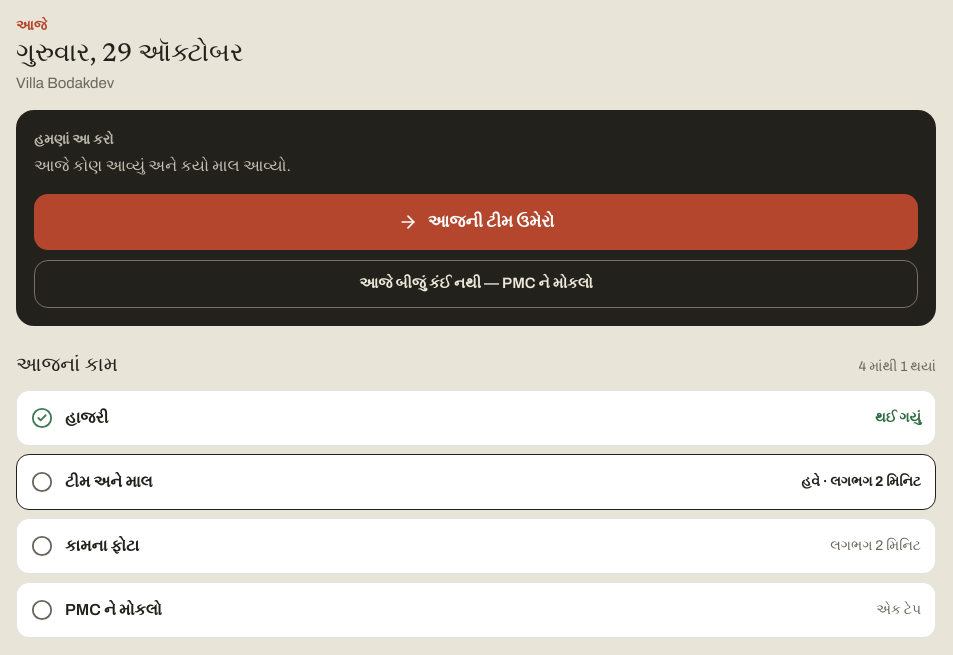
U1b — "Same as yesterday (N)": the last log's count for this trade › speaks the engineer's language
Click the button with test id "today-action" at (476,222), box left=34, top=194, right=918, bottom=250
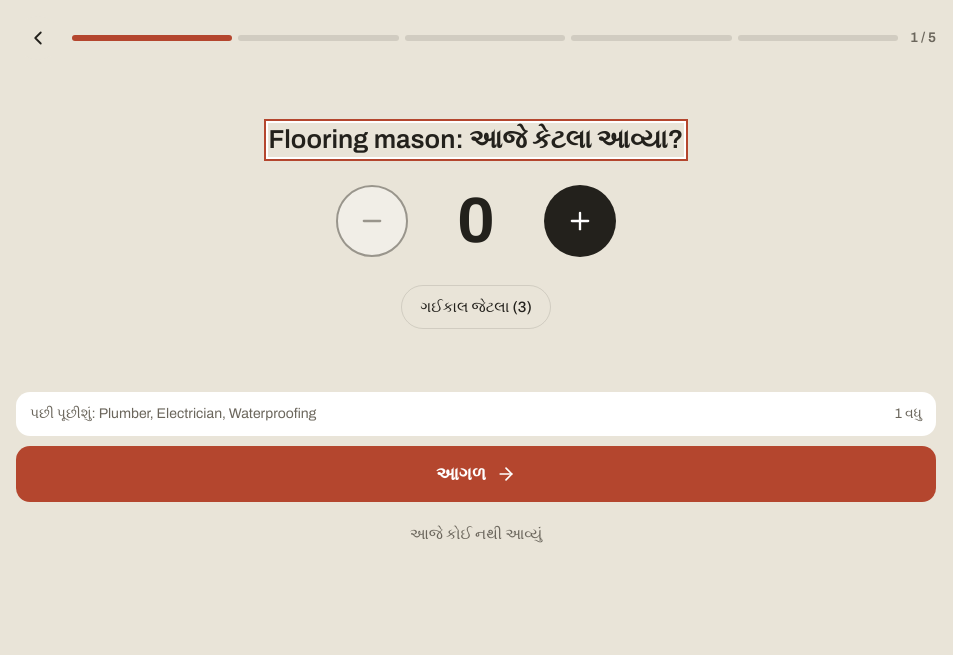
expect the button with test id "crew-same" reads "ગઈકાલ જેટલા (3)": met, box left=401, top=285, right=551, bottom=329
